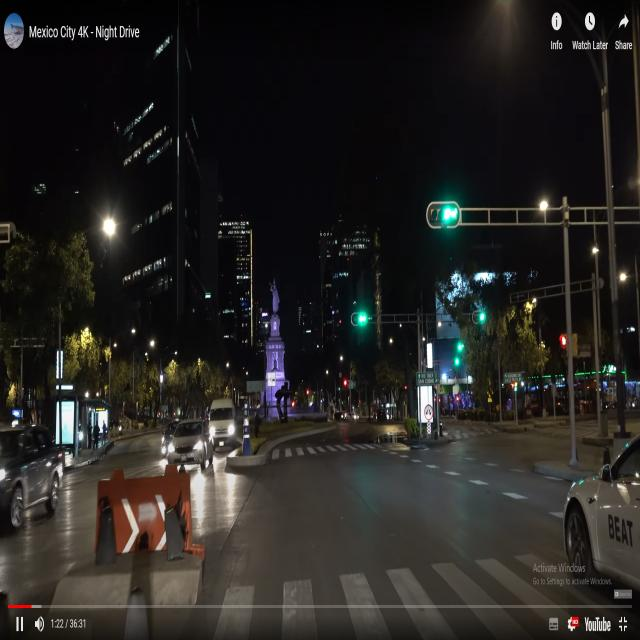headlights: (165, 434, 207, 463), (206, 419, 236, 444)
